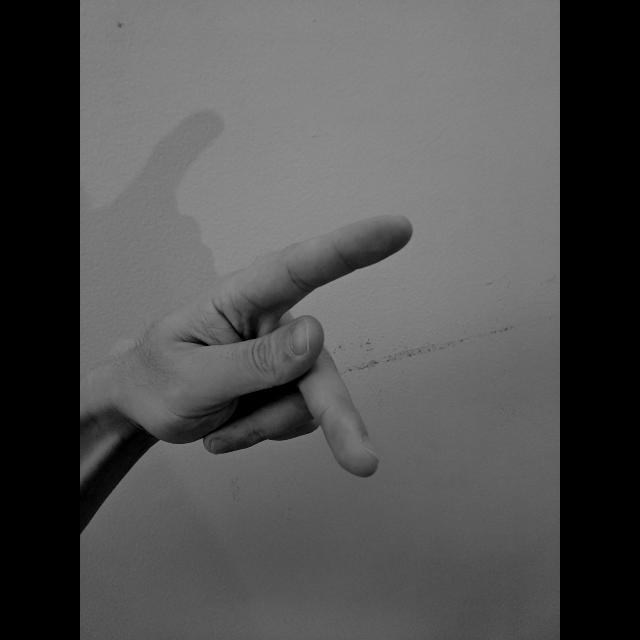P: (115, 211, 417, 481)
